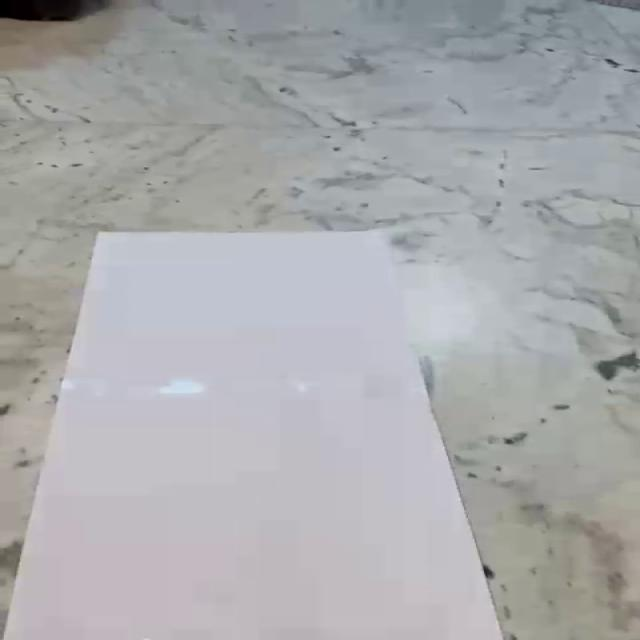road: (0, 230, 513, 640)
